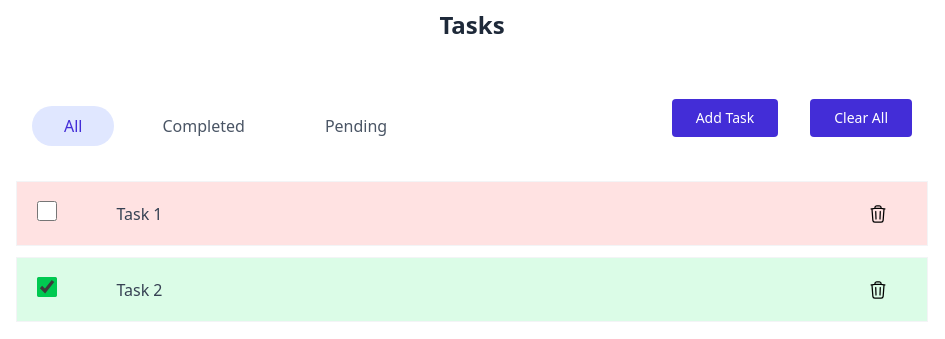
TaskList Component › filters tasks by 'completed'
This screenshot has width=945, height=339.
Click the text "Completed". click: {"x": 204, "y": 126}
box: [162,114,245,138]
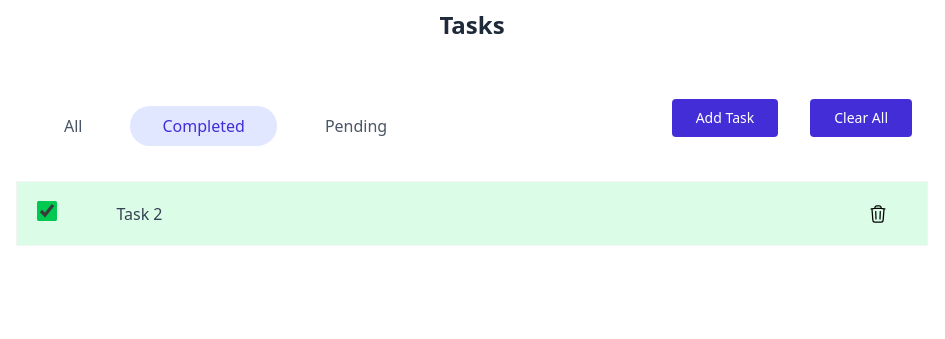
Expected: the text "Task 2" is shown, [116,206,162,222]
Expected: the text "Task 1" is gone
